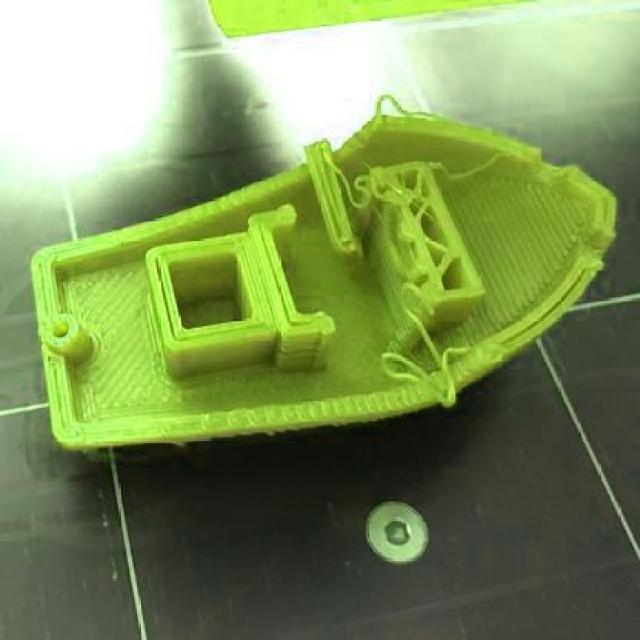spaghetti: (376, 274, 469, 408), (320, 148, 414, 222), (368, 88, 447, 136)
